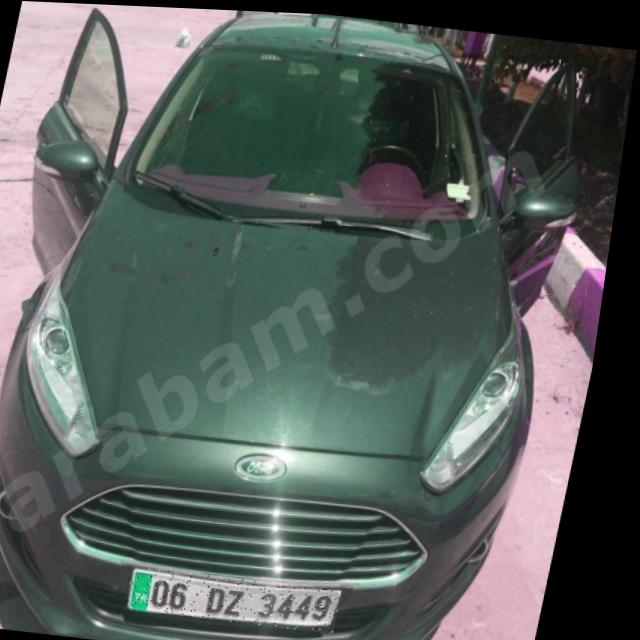license_plate: (140, 564, 360, 630)
